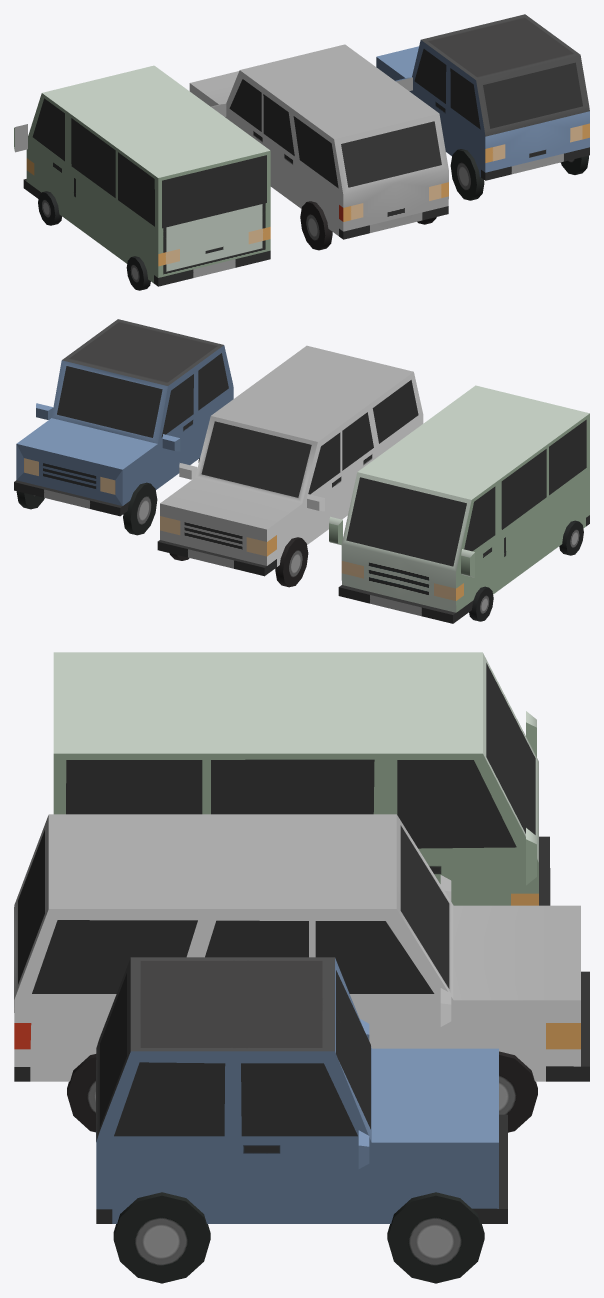
File: Cars(1).fbx
3 views of the same model, one above another, from view 1: azimuth 30°, elevation 25°; view 2: azimuth 150°, elevation 25°; view 3: azimuth 270°, elevation 25° (orthographic). The views are drawn at different scales.
Parts seen in each view (by area): view 1: Van, Prius, Jeep; view 2: Van, Prius, Jeep; view 3: Prius, Jeep, Van.
Boxes of the visible parts, bbox=[...] form: Van: bbox=[14, 65, 270, 290]; Prius: bbox=[189, 44, 448, 250]; Jeep: bbox=[376, 14, 589, 200]; Van: bbox=[329, 385, 589, 623]; Prius: bbox=[157, 345, 423, 587]; Jeep: bbox=[14, 319, 233, 535]; Prius: bbox=[14, 814, 589, 1132]; Jeep: bbox=[96, 957, 507, 1283]; Van: bbox=[53, 652, 550, 905].
Bounding box in the file's own units: 11.49 × 2.86 × 6.52.
Materials: 3 (3 with a texture image).
